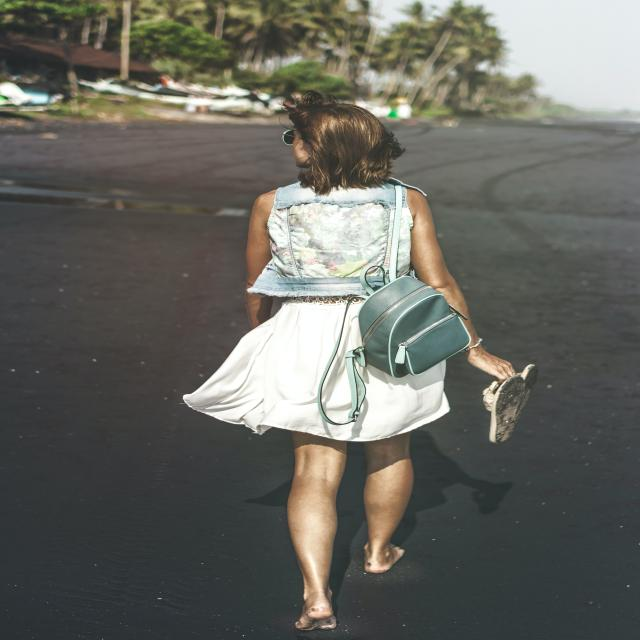backpack: (309, 183, 473, 423)
